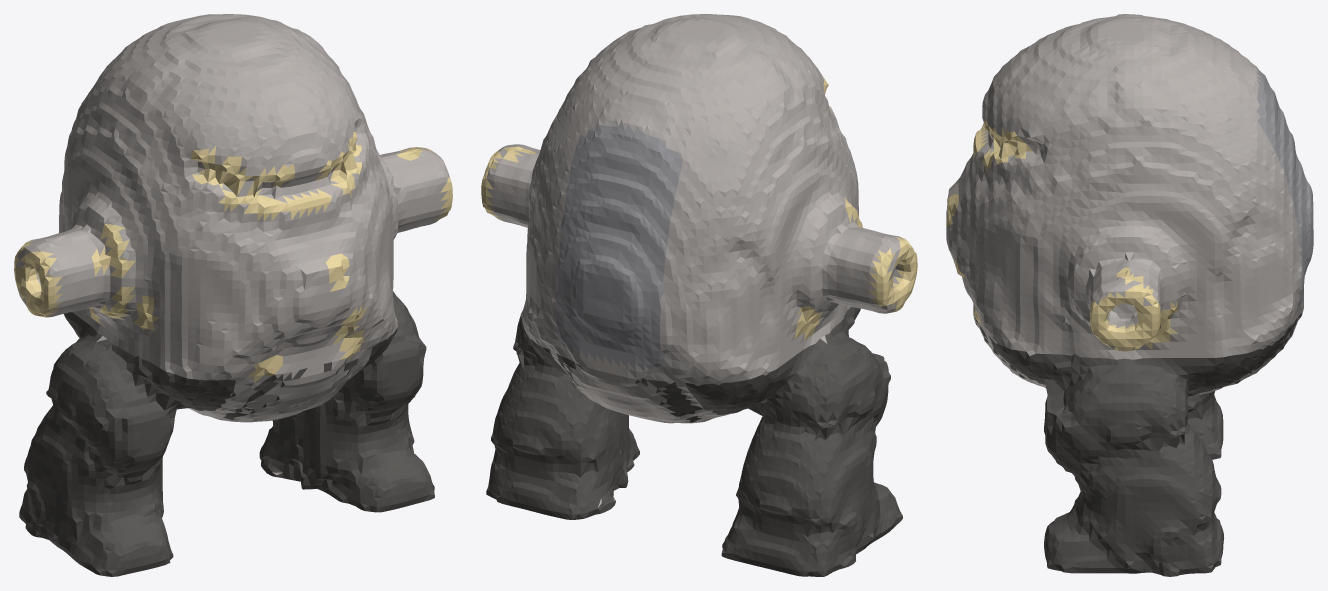
File: unit_faraday.glb
3 renders of one model, left to right at view 1: azimuth 30°, elevation 25°; view 2: azimuth 150°, elevation 25°; view 3: azimuth 270°, elevation 25°, orthographic. The views are drawn at different scales.
Parts seen in each view (by area): view 1: Mesh_0.010; view 2: Mesh_0.010; view 3: Mesh_0.010.
Boxes of the visible parts, x1=… form: Mesh_0.010: x1=14, y1=14, x2=452, y2=576; Mesh_0.010: x1=481, y1=14, x2=917, y2=576; Mesh_0.010: x1=946, y1=14, x2=1313, y2=576.
Size of the model in its own units: 2.86 by 3.2 by 2.3.
